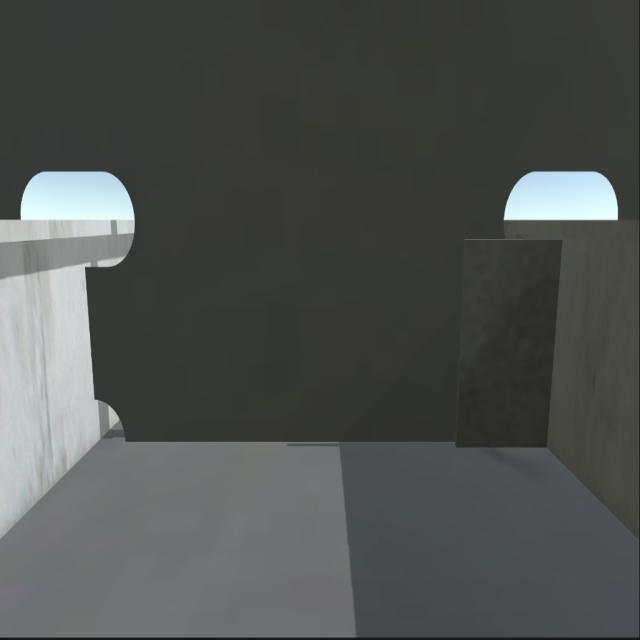fillet_hole: (88, 392, 128, 446)
fillet_yong_jeop_jang: (124, 435, 551, 450)
longi_yong_jeop_jang: (534, 231, 567, 452), (83, 260, 99, 409)
plate_CP01: (452, 235, 566, 448)
